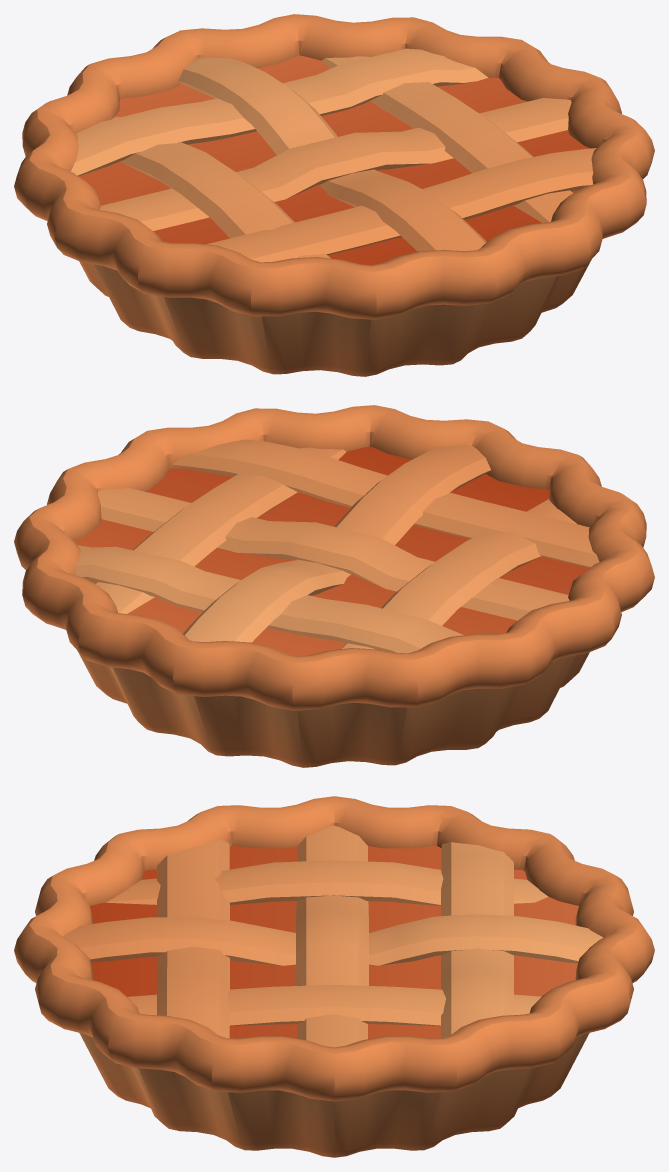
The model's file is Apple Pie.fbx.
The picture shows the model from 3 angles, top to bottom: view 1: azimuth 30°, elevation 25°; view 2: azimuth 150°, elevation 25°; view 3: azimuth 270°, elevation 25°; orthographic projection.
Parts seen in each view (by area): view 1: Apple Pie; view 2: Apple Pie; view 3: Apple Pie.
Part boxes in pixels (x1,y1,x2,y2): Apple Pie: [14, 14, 654, 376]; Apple Pie: [14, 405, 654, 767]; Apple Pie: [14, 796, 654, 1157].
Size of the model in its own units: 26.47 by 6.4 by 26.47.
